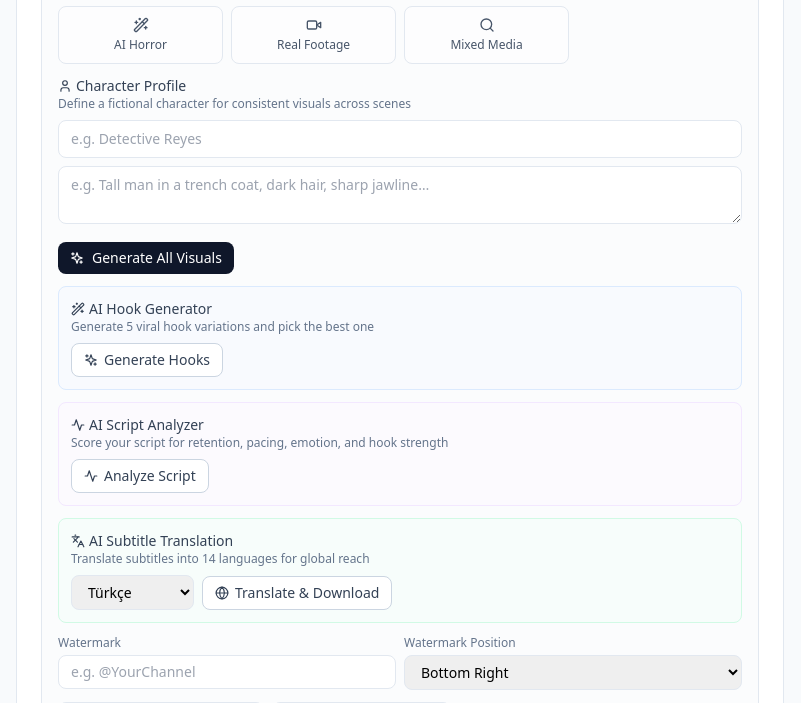
Scenario: Studio provider availability › does not show failure feedback for a successful generated result and prevents duplicate pending hooks
The image size is (801, 703).
Later steps or results of the test are not shown.
(page scrolled)
Click the button "Generate Hooks" at x=147, y=360, box [71,343,223,377]
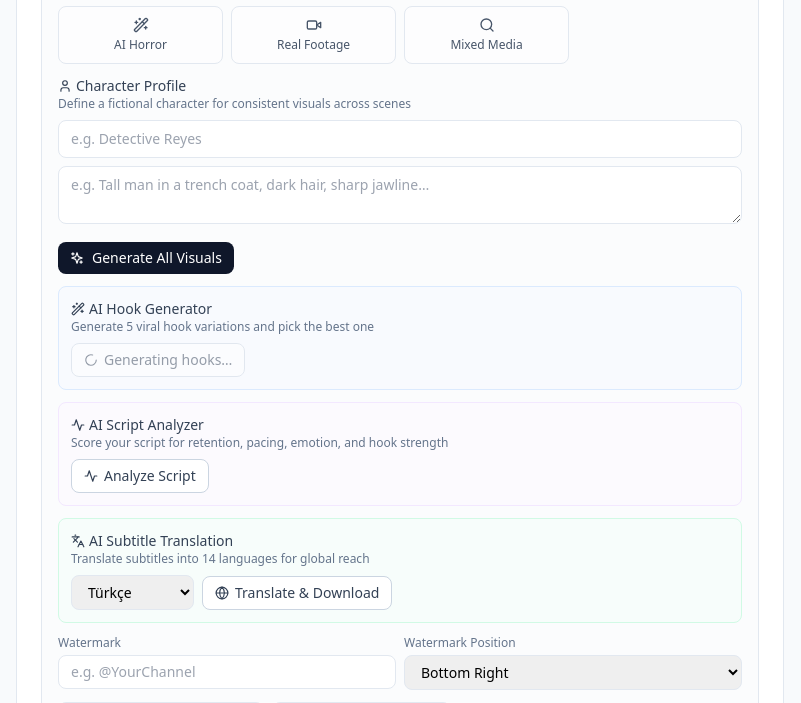
Now the button "Generating hooks…" is disabled, box [71,343,245,377]
